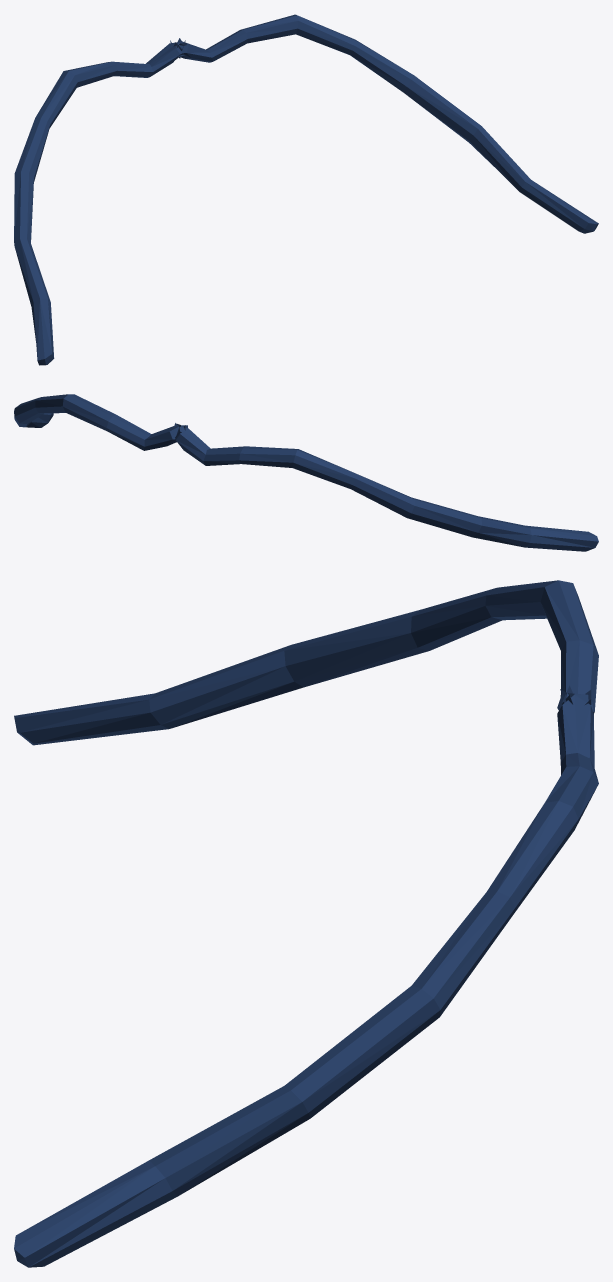
The model's file is Seno Tranverso.FBX.
The picture shows the model from 3 angles, top to bottom: view 1: azimuth 30°, elevation 25°; view 2: azimuth 150°, elevation 25°; view 3: azimuth 270°, elevation 25°; orthographic projection. The views are drawn at different scales.
Parts seen in each view (by area): view 1: CS_Veins; view 2: CS_Veins; view 3: CS_Veins.
Part boxes in pixels (x1,y1,x2,y2): CS_Veins: (14, 14, 598, 365); CS_Veins: (14, 394, 598, 551); CS_Veins: (14, 580, 598, 1267).
Size of the model in its own units: 393 by 106 by 179.
